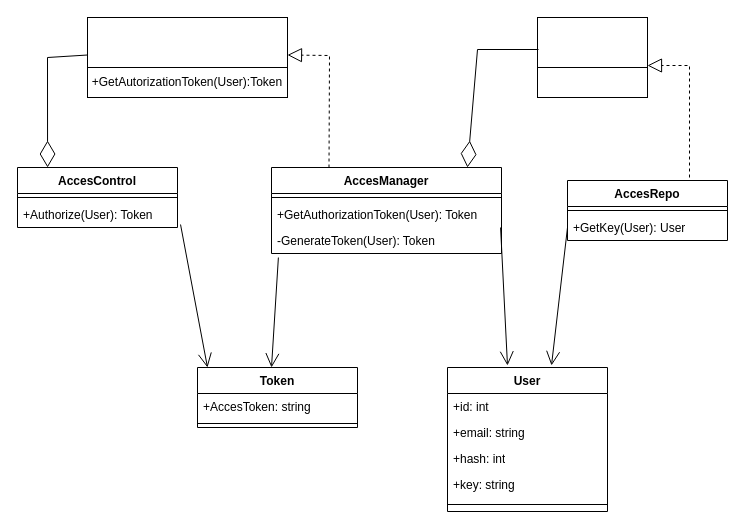
Some shapes in this 745 by 529 pixel diagram are drawn without their labels. The shapes that lost their labels are listed below. From the top down, each one's centre as x and y in pixels, then its label:
[187,42]: «interface» IAccesManager
[592,42]: «interface» IAccesRepo
[592,82]: +GetKey(): User
